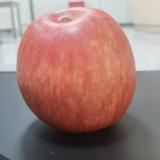apple: (16, 7, 136, 132)
